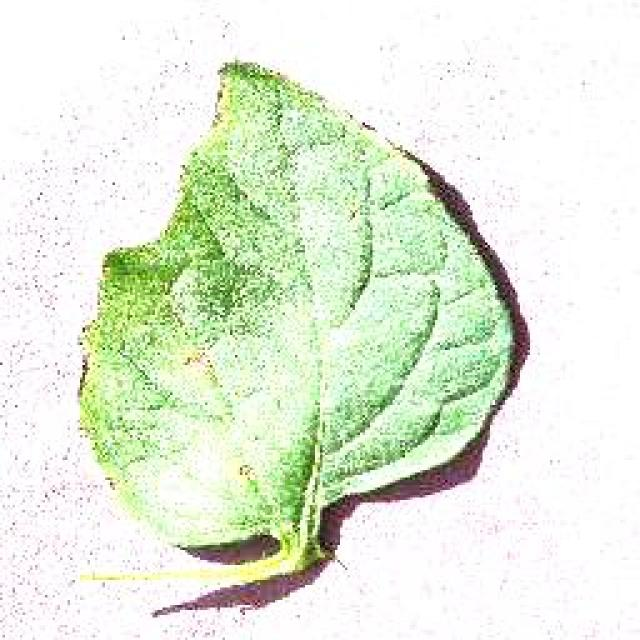Tomato___Target_Spot: (80, 60, 512, 582)
